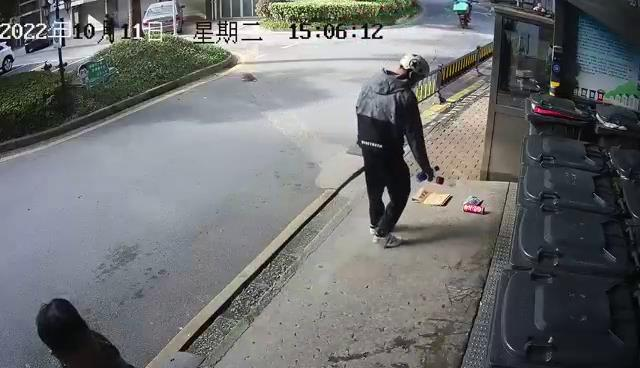lvzhipin: (461, 201, 488, 214)
person: (354, 51, 435, 249), (33, 296, 137, 368)
suliaozhipin: (410, 163, 445, 185)
zhizhipin: (411, 185, 453, 206)
